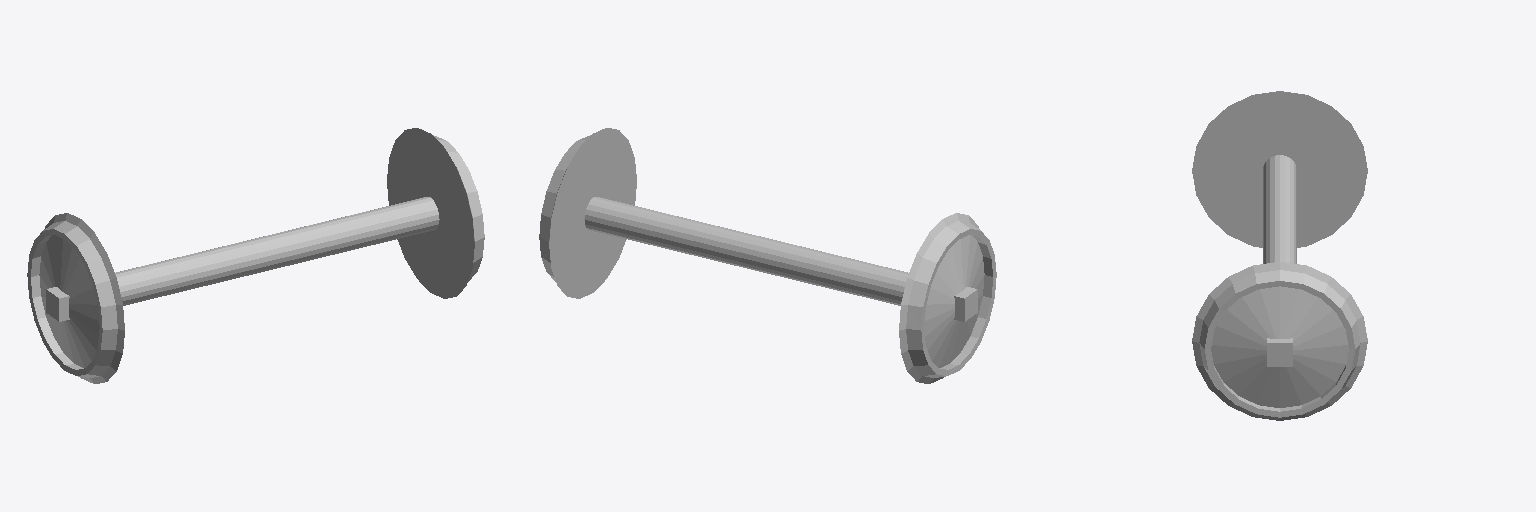
Rendered from Wheels.obj.
3 renders of one model, left to right at view 1: azimuth 30°, elevation 25°; view 2: azimuth 150°, elevation 25°; view 3: azimuth 270°, elevation 25°, orthographic.
Parts seen in each view (by area): view 1: polySurface38; view 2: polySurface38; view 3: polySurface38.
Part boxes in pixels (left/top/right/bottom): polySurface38: left=27, top=128, right=484, bottom=383; polySurface38: left=539, top=128, right=996, bottom=383; polySurface38: left=1192, top=91, right=1367, bottom=420.
Size of the model in its own units: 2.71 by 1.02 by 1.02.